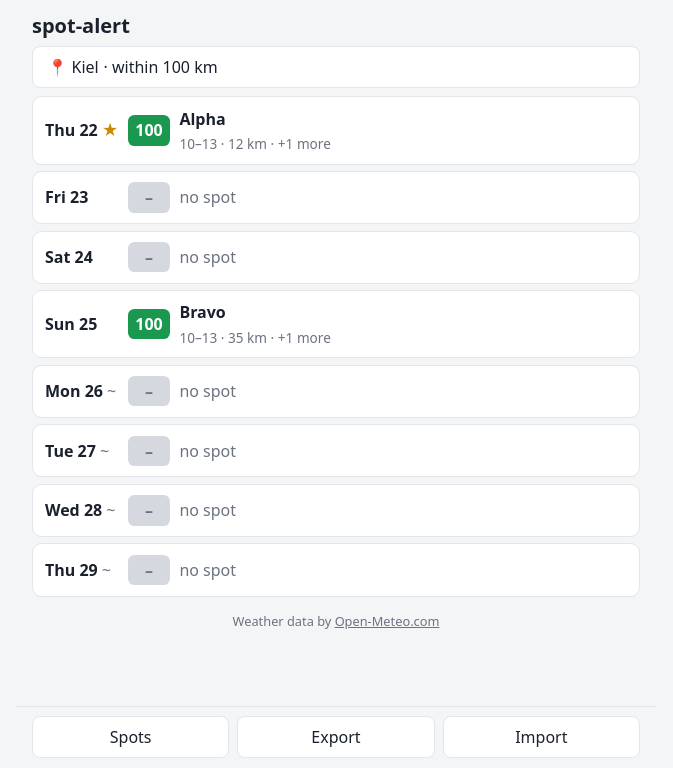
Test: App › deletes a spot after confirming
Expected: the button "Thu 22★ 100 Alpha 10–13 · 12 km · +1 more" is shown, [32, 96, 640, 165]
Click the button "Spots" at (131, 737), box [32, 716, 229, 758]
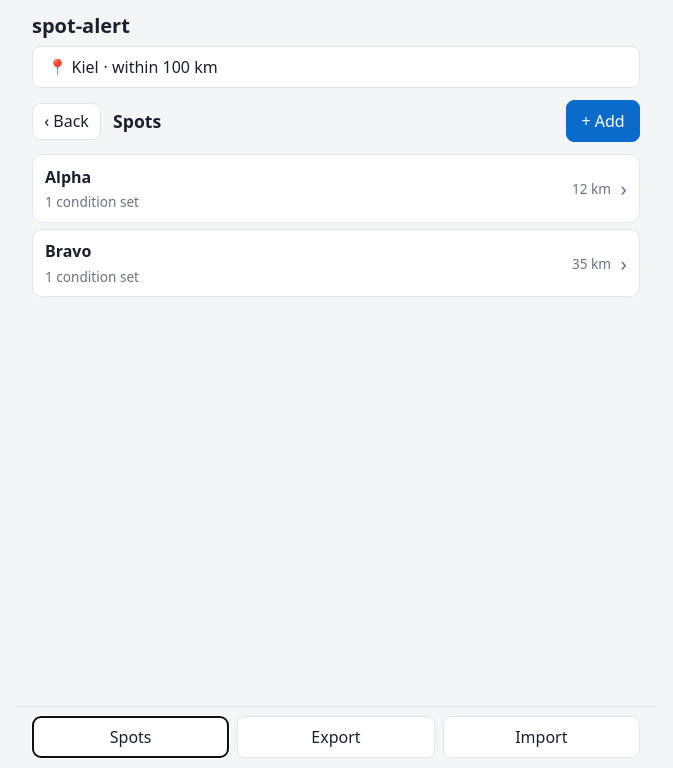
Click the button "Alpha 1 condition set 12 km ›" at (68, 177), box [32, 154, 640, 223]
(page scrolled)
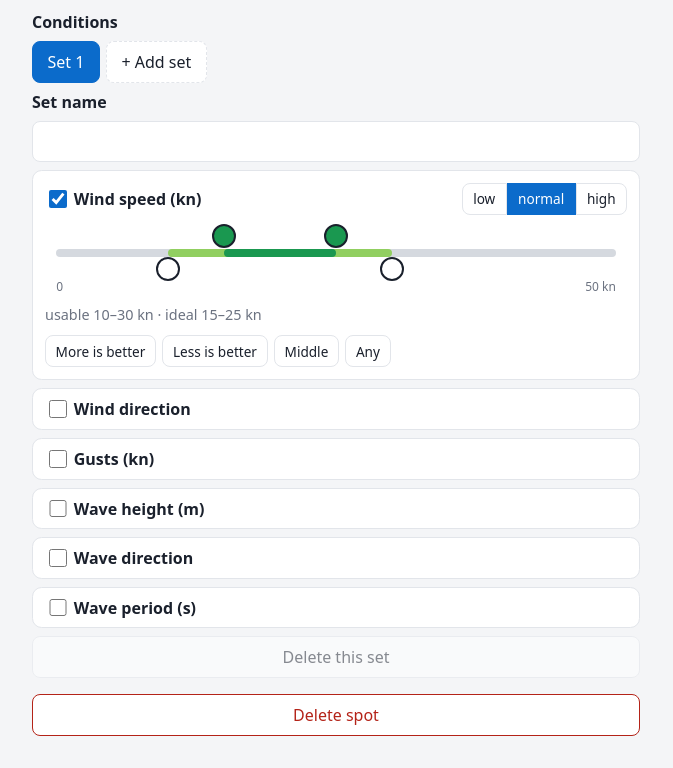
Click the button "Delete spot" at (336, 715), box [32, 694, 640, 736]
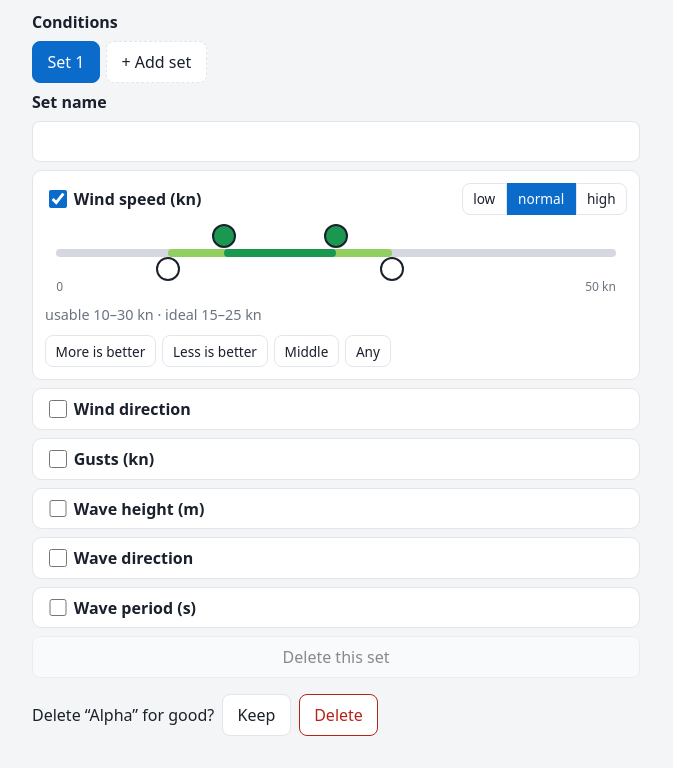
Click the button "Delete" at (338, 715), box [299, 694, 378, 736]
(page scrolled)
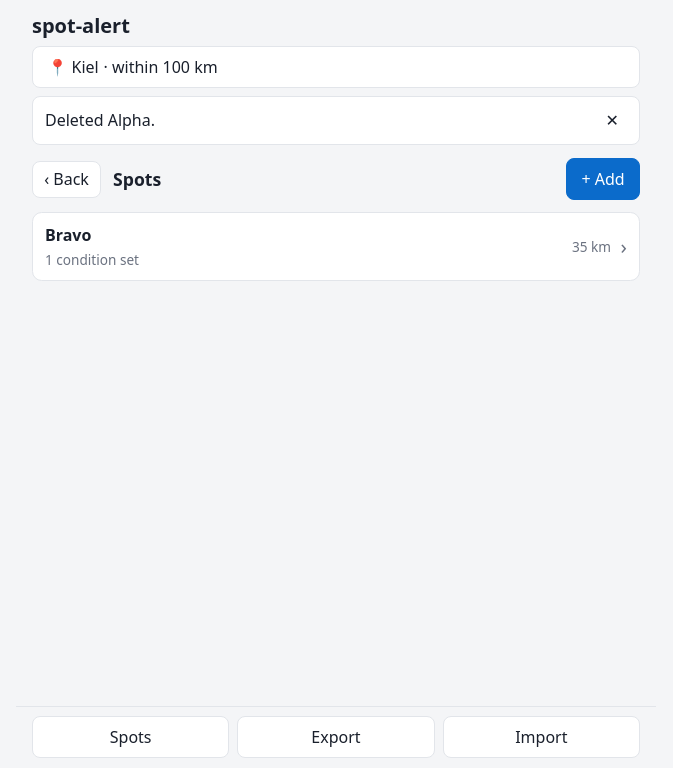
Expected: the text "Deleted Alpha." is shown, [45, 109, 155, 131]
